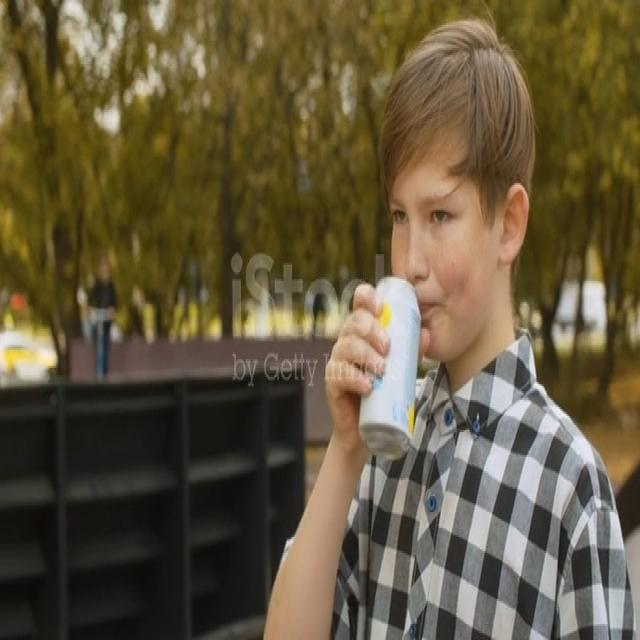can: (358, 274, 420, 463)
